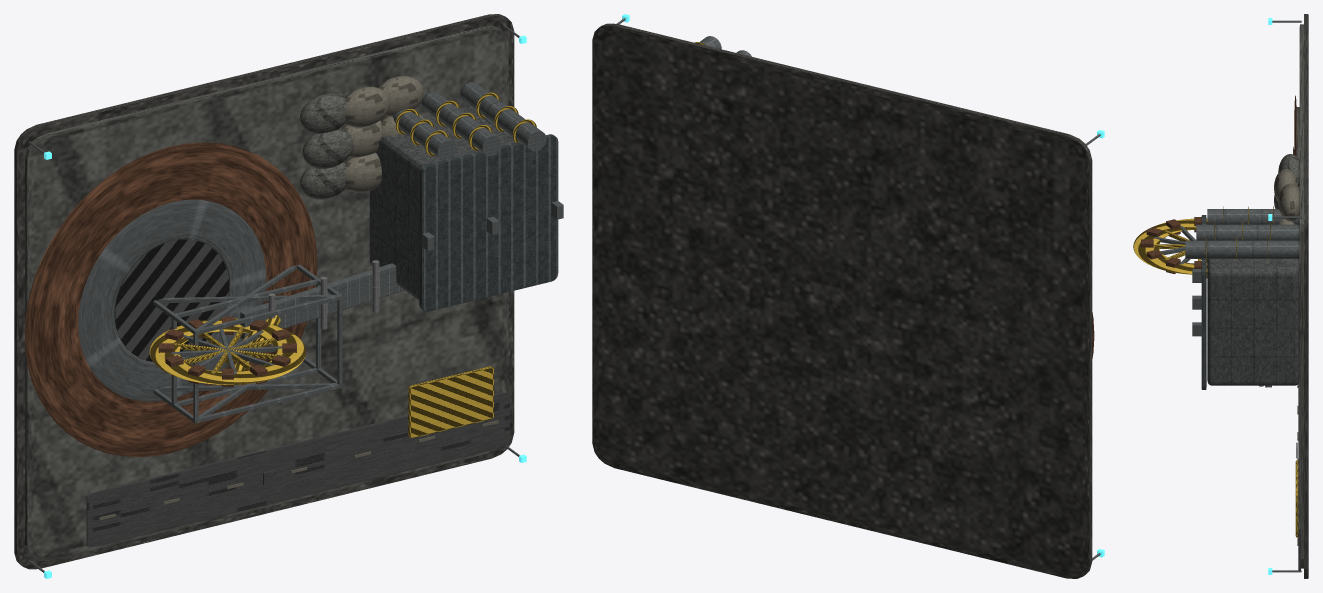
File: b-50-mineral-quarry-lod0.glb
3 views of the same model, side by side, from view 1: azimuth 30°, elevation 25°; view 2: azimuth 150°, elevation 25°; view 3: azimuth 270°, elevation 25° (orthographic). The views are drawn at different scales.
Parts seen in each view (by area): view 1: foundation_inner_pad, quarry_terrace_outer, quarry_haul_road, quarry_crusher_house_roof, foundation, quarry_terrace_inner, quarry_cut, quarry_crusher_house_main_hall, quarry_pickup_socket, primary_bucket_wheel, dust_extractor_2_stack, dust_extractor_1_stack (+16 smaller); view 2: foundation; view 3: quarry_crusher_house_main_hall, foundation, foundation_inner_pad, dust_extractor_2_stack, dust_extractor_1_stack, primary_bucket_wheel, dust_extractor_0_stack, quarry_crusher_house_roof, mineral_stockpile_8, quarry_haul_road, mineral_stockpile_7, mineral_stockpile_6 (+2 smaller).
Boxes of the visible parts, x1,y1,x2,y2 form: foundation_inner_pad: [25, 26, 508, 560]; quarry_terrace_outer: [24, 142, 317, 456]; quarry_haul_road: [86, 392, 509, 546]; quarry_crusher_house_roof: [419, 134, 558, 311]; foundation: [14, 14, 514, 569]; quarry_terrace_inner: [78, 199, 266, 401]; quarry_cut: [115, 239, 229, 361]; quarry_crusher_house_main_hall: [369, 105, 514, 300]; quarry_pickup_socket: [408, 366, 493, 438]; primary_bucket_wheel: [149, 318, 306, 384]; dust_extractor_2_stack: [460, 82, 546, 151]; dust_extractor_1_stack: [421, 91, 501, 156]; foundation: [592, 23, 1092, 578]; quarry_crusher_house_main_hall: [1207, 259, 1299, 385]; foundation: [1304, 14, 1308, 578]; foundation_inner_pad: [1299, 24, 1303, 568]; dust_extractor_2_stack: [1185, 240, 1299, 258]; dust_extractor_1_stack: [1196, 224, 1299, 240]; primary_bucket_wheel: [1133, 218, 1207, 274]; dust_extractor_0_stack: [1207, 209, 1299, 224]; quarry_crusher_house_roof: [1201, 215, 1206, 389]; mineral_stockpile_8: [1278, 183, 1299, 221]; quarry_haul_road: [1298, 369, 1300, 570]; mineral_stockpile_7: [1274, 169, 1298, 201]; mineral_stockpile_6: [1278, 154, 1299, 186].
Size of what is drawn, in the model's own units: 20 by 17 by 7.23.
12 materials, 12 textured.
